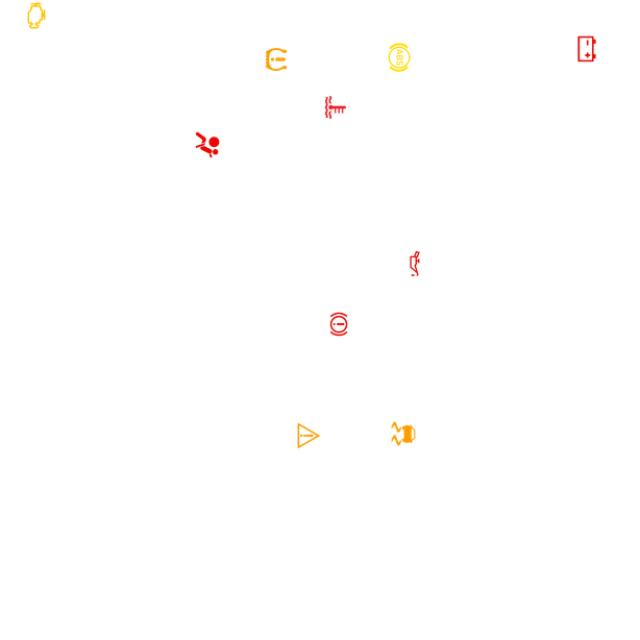Anti Lock Braking System: (383, 42, 415, 73)
Braking System Issue: (323, 308, 355, 340)
Charging System Issue: (571, 33, 603, 65)
Check Engine: (20, 0, 52, 31)
Electronic Stability Problem -ESP-: (388, 418, 419, 449)
Engine Overheating Warning Light: (320, 92, 351, 123)
Low Engine Oil Warning Light: (399, 248, 431, 279)
Low Tire Pressure Warning Light: (260, 44, 292, 75)
Master warning light: (293, 420, 324, 451)
SRS-Airbag: (192, 129, 223, 161)
